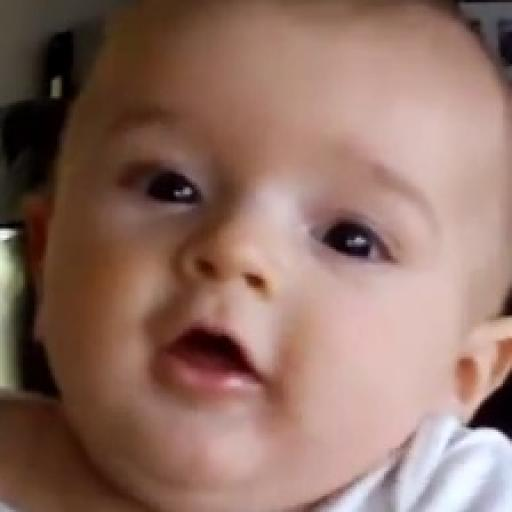Autism: (60, 7, 508, 512)
